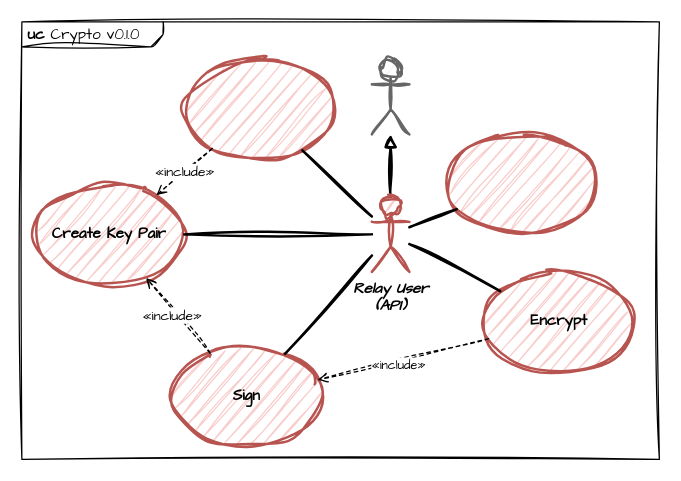
This 681x481 diagram has some shape labels left out. The shapes that lost their labels are listed below. From the top down, each one's centre as x and y in pixels, then its label:
At [258,109]: "Identify".
At [390,96]: "Relay System".
At [521,183]: "Decrypt".
